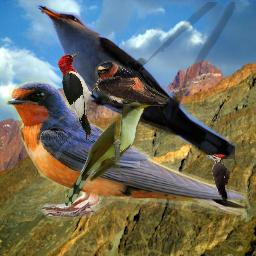Cuckoo: (34, 2, 235, 159), (65, 102, 150, 206)
Swallow: (0, 76, 247, 226), (95, 61, 170, 106)
Woodpecker: (57, 51, 102, 140), (205, 154, 231, 203)
